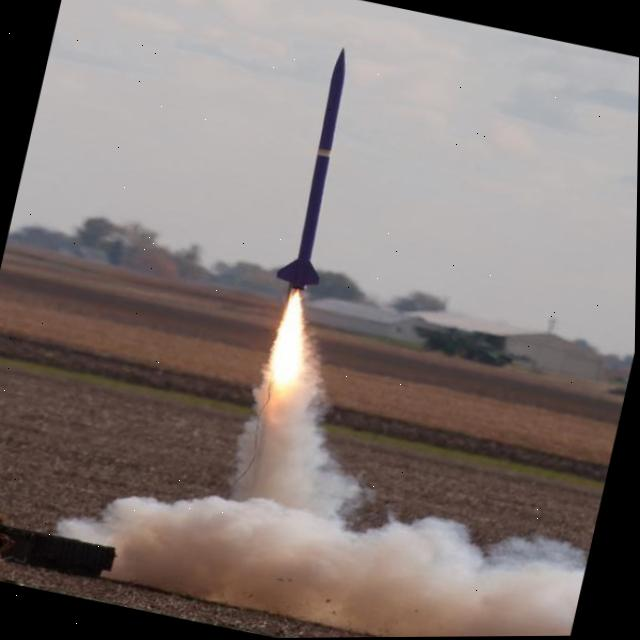missile: (271, 44, 369, 296)
